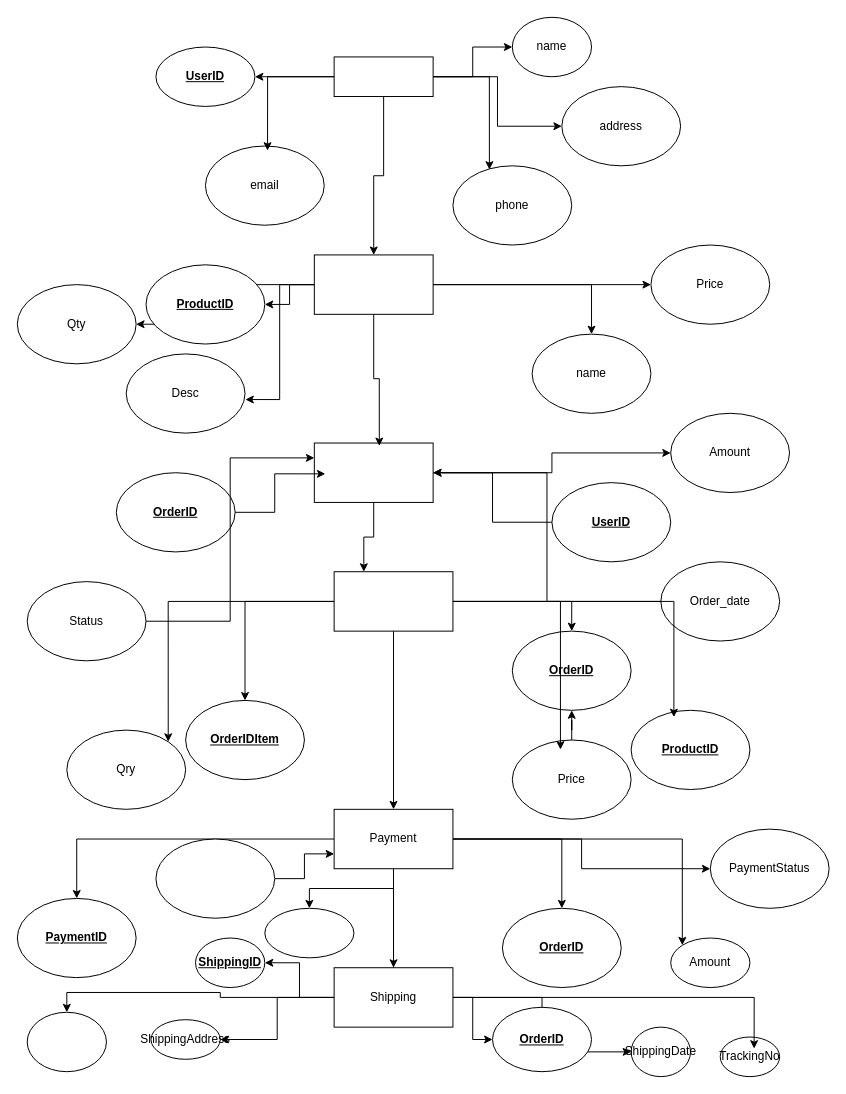
This 846x1094 diagram has some shape labels left out. The centre of each missing label's shape, as x and y in pixels:
"DelieveryDate" goes at (309,932).
"Order" goes at (373,472).
"Orderitem" goes at (393,601).
"PaymentDate" goes at (215,878).
"Product" goes at (373,284).
"ShippingStatus" goes at (66,1041).
"User" goes at (383,76).
